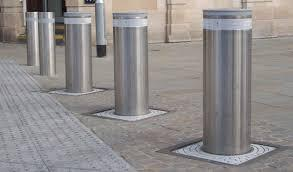Animal: (197, 7, 257, 157), (111, 9, 155, 116), (62, 9, 94, 91), (35, 6, 60, 81), (26, 7, 41, 67)
